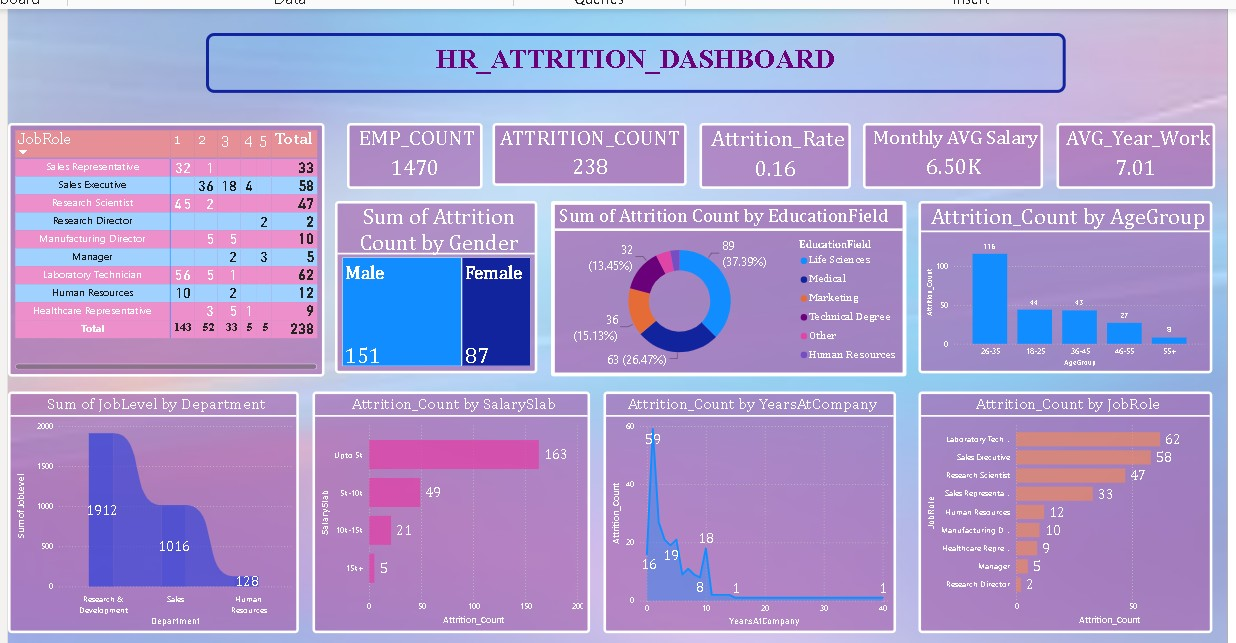

Layout of this report page (visuals, bound fields, positions):
{"tool":"powerbi","page":{"name":"Hr_Attrition_Dashboard","canvas":[1900,990],"ordinal":0},"visuals":[{"type":"textbox","box":[308.6,37.4,1339.7,93.5],"z":0},{"type":"card","title":"EMP_COUNT","fields":{"Values":["Count(HR_Analytic (1).EmpID)"]},"box":[527.7,178.1,211.5,102.4],"z":1000},{"type":"card","title":"ATTRITION_COUNT","fields":{"Values":["CountNonNull(HR_Analytic (1).Attrition)"]},"box":[754.8,178.1,302.8,98],"z":2000},{"type":"card","title":"Attrition_Rate","fields":{"Values":["HR_Analytic (1).Attrition_Rate"]},"box":[1077.6,178.1,236,102.4],"z":3000},{"type":"card","title":"Monthly AVG Salary","fields":{"Values":["Avg(HR_Analytic (1).MonthlyIncome)"]},"box":[1333.6,178.1,280.5,102.4],"z":4000},{"type":"card","title":"AVG_Year_Work ","fields":{"Values":["Avg(HR_Analytic (1).YearsAtCompany)"]},"box":[1634.2,178.1,247.1,102.4],"z":5000},{"type":"treemap","title":"Sum  of Attrition Count by Gender","fields":{"Group":["HR_Analytic (1).Gender"],"Values":["CountNonNull(HR_Analytic (1).Attrition)"]},"box":[509.7,299.3,315.6,268.9],"z":6000},{"type":"donutChart","title":"Sum  of Attrition Count  by EducationField","fields":{"Category":["HR_Analytic (1).EducationField"],"Y":["CountNonNull(HR_Analytic (1).Attrition)"]},"box":[846.4,299.3,554.1,273.5],"z":7000},{"type":"columnChart","fields":{"Category":["HR_Analytic (1).AgeGroup"],"Y":["HR_Analytic (1).Attrition_Count"]},"box":[1419.2,299.3,458.3,268.9],"z":8000},{"type":"pivotTable","fields":{"Columns":["HR_Analytic (1).JobLevel"],"Rows":["HR_Analytic (1).JobRole"],"Values":["HR_Analytic (1).Attrition_Count"]},"box":[0,177.7,493.3,395.1],"z":9000},{"type":"lineChart","fields":{"Category":["HR_Analytic (1).YearsAtCompany"],"Y":["HR_Analytic (1).Attrition_Count"]},"box":[928.2,596.2,455.9,376.4],"z":10000},{"type":"clusteredBarChart","fields":{"Category":["HR_Analytic (1).SalarySlab"],"Y":["HR_Analytic (1).Attrition_Count"]},"box":[474.6,596.2,432.5,376.4],"z":10001},{"type":"clusteredBarChart","fields":{"Category":["HR_Analytic (1).JobRole"],"Y":["HR_Analytic (1).Attrition_Count"]},"box":[1419.2,596.2,458.3,376.4],"z":10002},{"type":"ribbonChart","fields":{"Category":["HR_Analytic (1).Department"],"Y":["Sum(HR_Analytic (1).JobLevel)"]},"box":[0,596.2,453.6,376.4],"z":10003}]}

Visuals, with their boxes in screenshot pixels (x1, y1, x2, y2):
textbox: [x1=204, y1=30, x2=1063, y2=90]
"EMP_COUNT" card: [x1=345, y1=121, x2=480, y2=186]
"ATTRITION_COUNT" card: [x1=490, y1=121, x2=685, y2=183]
"Attrition_Rate" card: [x1=697, y1=121, x2=849, y2=186]
"Monthly AVG Salary" card: [x1=862, y1=121, x2=1041, y2=186]
"AVG_Year_Work " card: [x1=1054, y1=121, x2=1213, y2=186]
"Sum  of Attrition Count by Gender" treemap: [x1=333, y1=198, x2=536, y2=371]
"Sum  of Attrition Count  by EducationField" donutChart: [x1=549, y1=198, x2=905, y2=374]
columnChart - HR_Analytic (1).AgeGroup x HR_Analytic (1).Attrition_Count: [x1=917, y1=198, x2=1210, y2=371]
pivotTable - HR_Analytic (1).JobLevel x HR_Analytic (1).JobRole: [x1=6, y1=120, x2=323, y2=374]
lineChart - HR_Analytic (1).YearsAtCompany x HR_Analytic (1).Attrition_Count: [x1=602, y1=389, x2=894, y2=630]
clusteredBarChart - HR_Analytic (1).SalarySlab x HR_Analytic (1).Attrition_Count: [x1=311, y1=389, x2=588, y2=630]
clusteredBarChart - HR_Analytic (1).JobRole x HR_Analytic (1).Attrition_Count: [x1=917, y1=389, x2=1210, y2=630]
ribbonChart - HR_Analytic (1).Department x Sum(HR_Analytic (1).JobLevel): [x1=6, y1=389, x2=297, y2=630]
